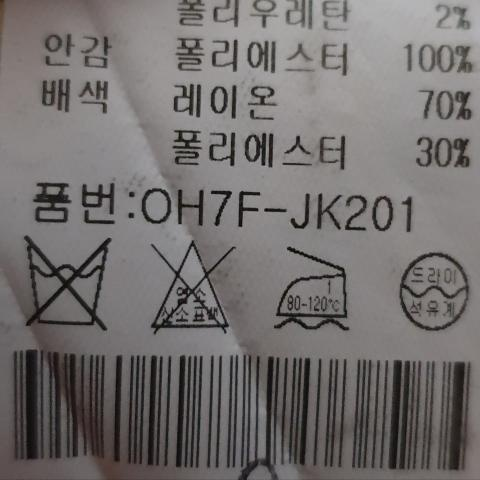DN_bleach: (145, 239, 240, 335)
DN_wash: (18, 235, 120, 333)
dry_clean_petrol_only: (389, 251, 477, 335)
iron_low: (267, 246, 358, 336)
